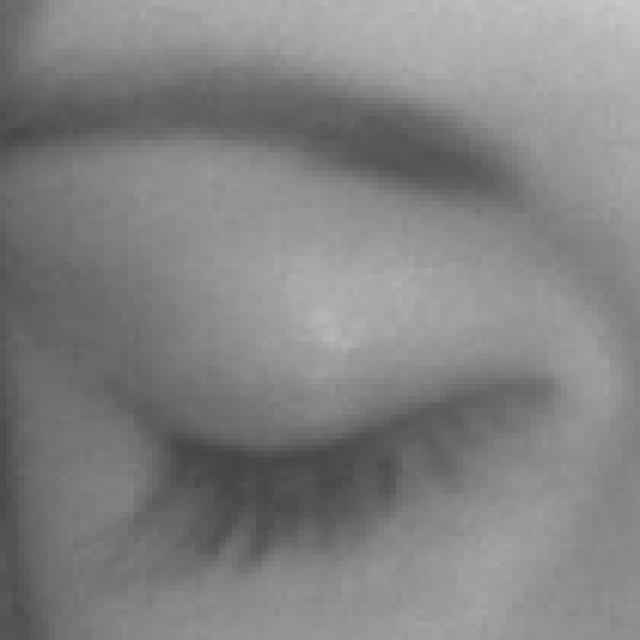Eyeclosed: (116, 266, 567, 640)
